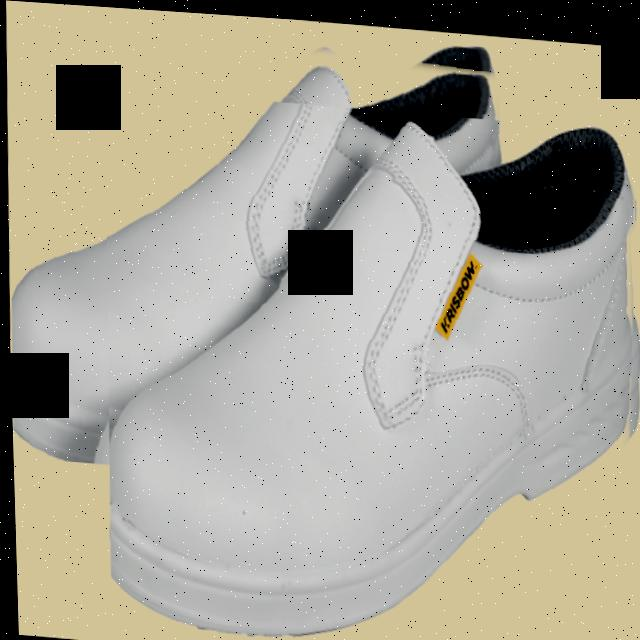shoe: (95, 85, 640, 640), (0, 2, 514, 492)
